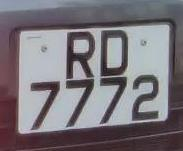2: (128, 71, 163, 124)
7: (24, 77, 66, 134), (61, 78, 100, 131), (97, 75, 131, 127)
D: (96, 25, 135, 79)
R: (62, 27, 99, 81)
